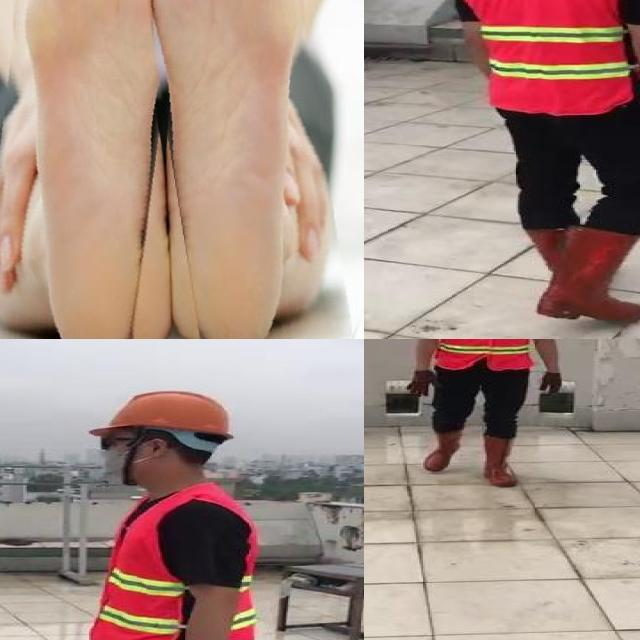Barefoots: (10, 0, 178, 339), (152, 0, 311, 339)
boots: (532, 227, 640, 329), (482, 434, 524, 487), (421, 428, 462, 473)
face_mask: (88, 427, 163, 487)
hand_glove: (407, 371, 443, 397), (538, 371, 564, 397)
head_helmet: (81, 387, 241, 445)
person: (442, 0, 640, 333), (30, 382, 266, 640), (399, 339, 566, 493)
vest: (90, 484, 254, 640), (462, 0, 640, 116), (437, 339, 531, 371)
